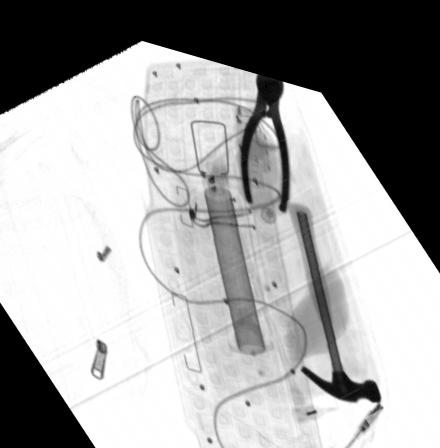Hammer: (284, 186, 381, 380)
Pliers: (241, 59, 290, 197)
